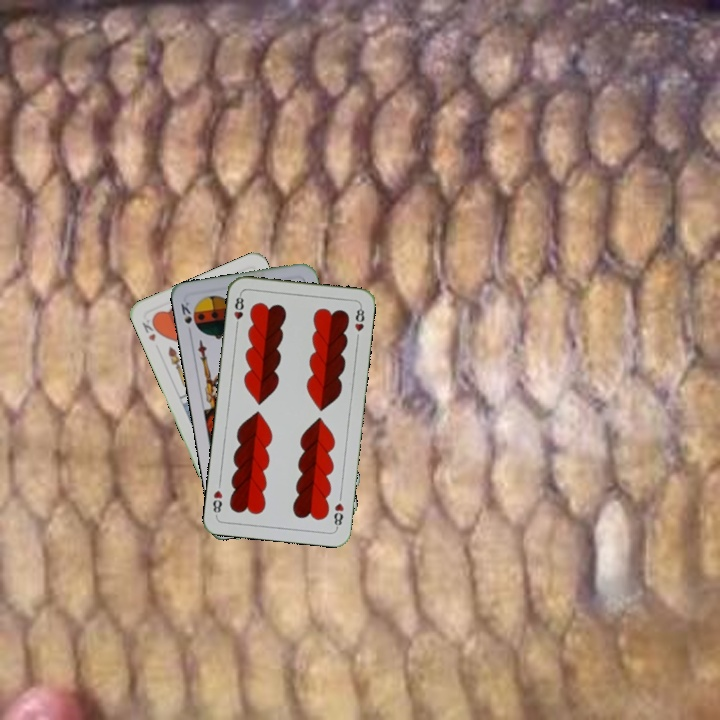H8: (230, 290, 246, 331), (330, 499, 346, 531)
HK: (138, 314, 162, 344)
SK: (177, 298, 194, 337)
